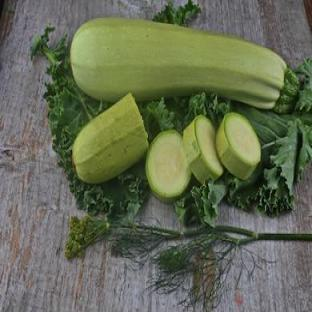Zucchini: (71, 18, 298, 111), (72, 94, 148, 183), (146, 130, 191, 201), (216, 113, 260, 179), (184, 116, 223, 183)
